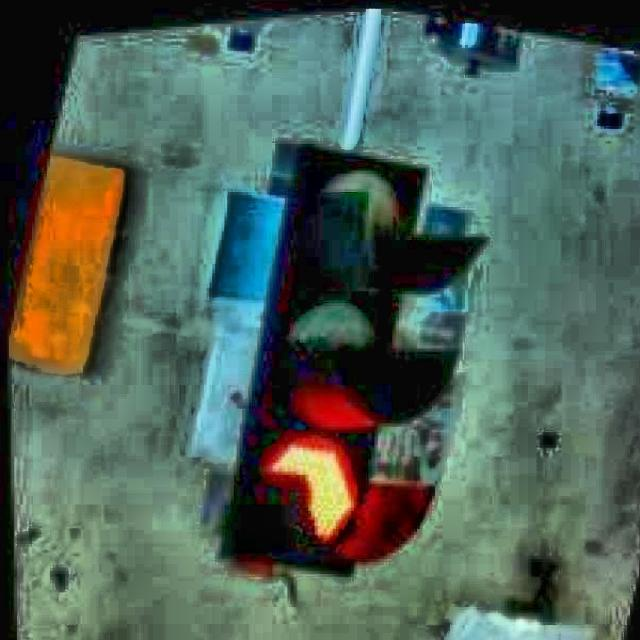red: (223, 144, 431, 567)
